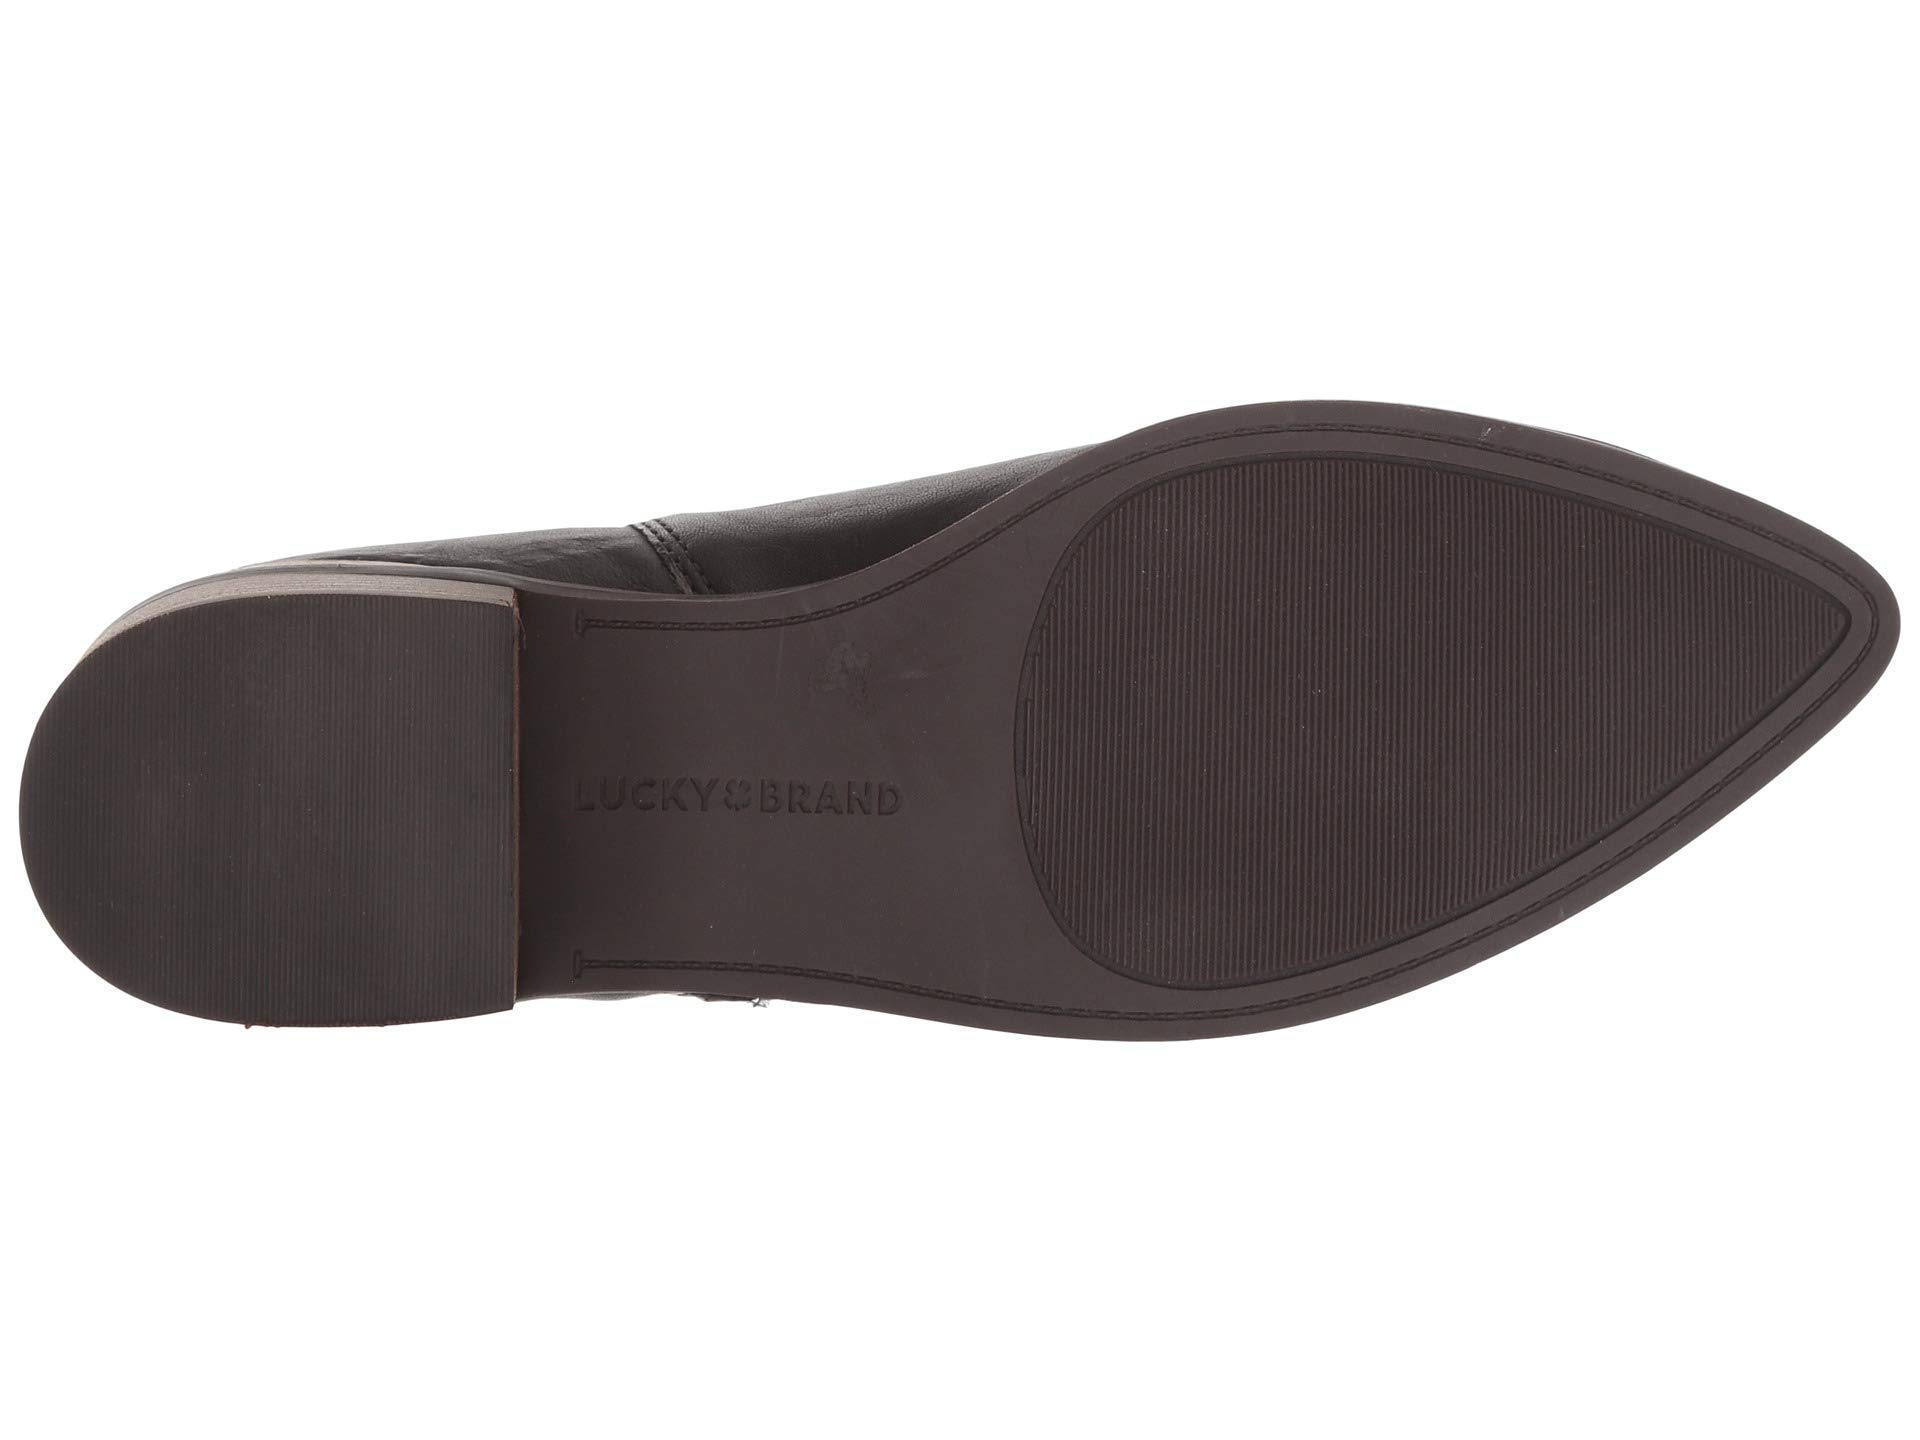exclude: (513, 815, 1051, 1032)
